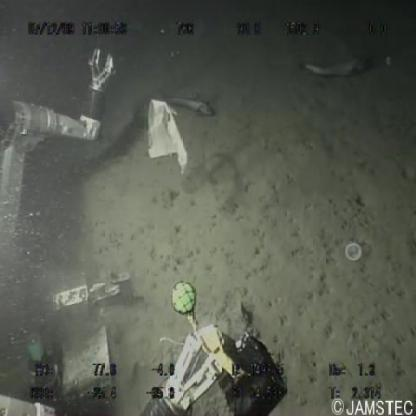Bio: (299, 53, 376, 79), (174, 87, 215, 119)
Rov: (2, 44, 294, 416)
Rác: (140, 95, 196, 174), (342, 238, 365, 267)
